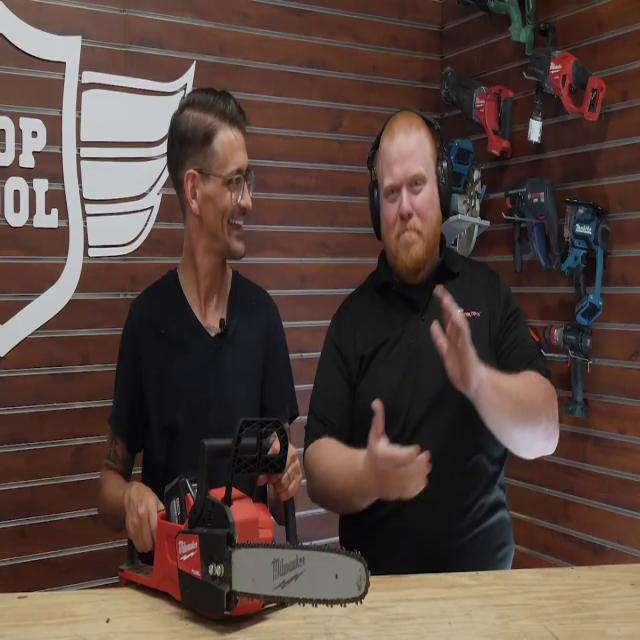earmuff: (434, 149, 454, 227), (367, 171, 387, 246)
glasses: (193, 160, 258, 213)
